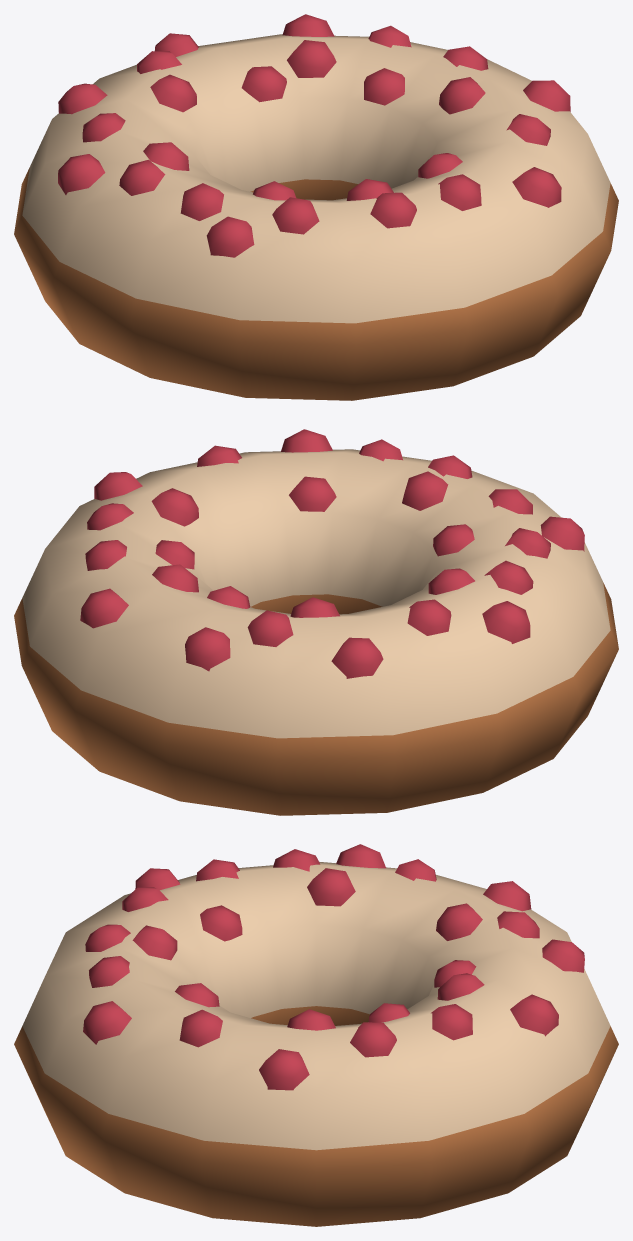
The model's file is Donut_02.fbx.
3 views of the same model, one above another, from view 1: azimuth 30°, elevation 25°; view 2: azimuth 150°, elevation 25°; view 3: azimuth 270°, elevation 25° (orthographic).
Visible parts, largest first — view 1: Donut_02; view 2: Donut_02; view 3: Donut_02.
Boxes of the visible parts, x1,y1,x2,y2 form: Donut_02: [14, 14, 618, 400]; Donut_02: [14, 429, 618, 815]; Donut_02: [14, 844, 618, 1226].
Bounding box in the file's own units: 0.121 × 0.0441 × 0.121.
